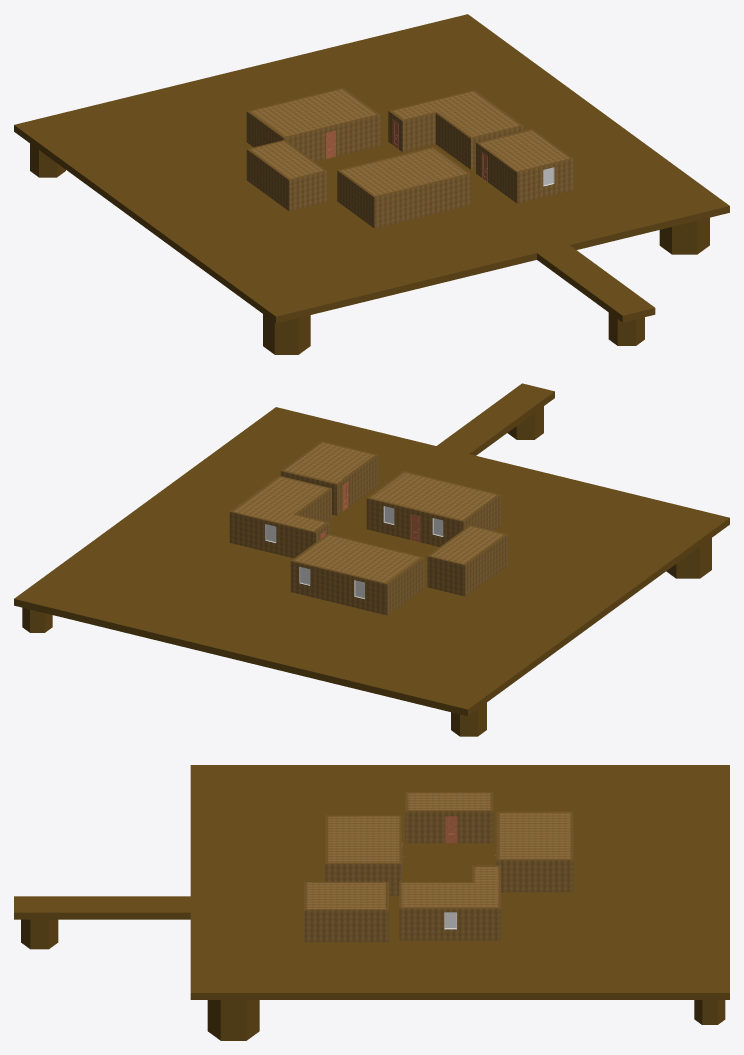
Rendered from village_pecheurs.glb.
3 views of the same model, one above another, from view 1: azimuth 30°, elevation 25°; view 2: azimuth 150°, elevation 25°; view 3: azimuth 270°, elevation 25° (orthographic). The views are drawn at different scales.
Visible parts, largest first — view 1: Village_pecheurs.001; view 2: Village_pecheurs.001; view 3: Village_pecheurs.001.
Part boxes in pixels (x1,y1,x2,y2): Village_pecheurs.001: (14, 14, 729, 354); Village_pecheurs.001: (14, 383, 729, 736); Village_pecheurs.001: (14, 765, 729, 1040).
Bounding box in the file's own units: 256 × 43.3 × 340.
7 materials, 2 textured.
